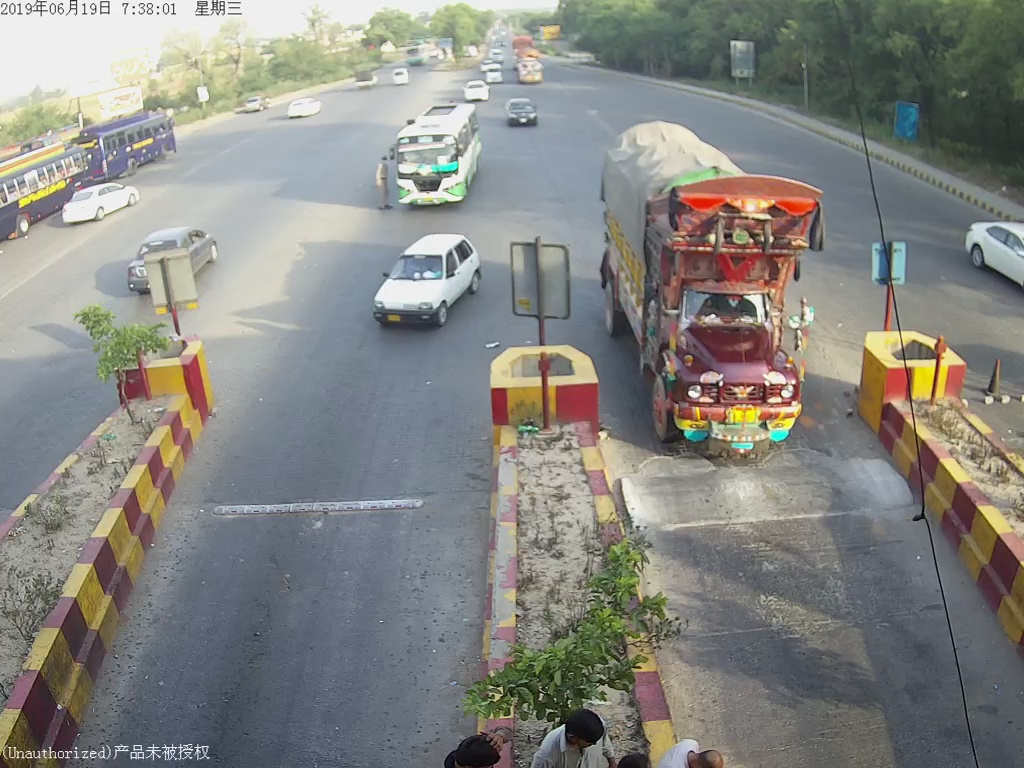Cat-1: (379, 236, 481, 323), (502, 91, 547, 130)
Cat-3: (395, 98, 482, 205)
Cat-4: (595, 117, 833, 461)
